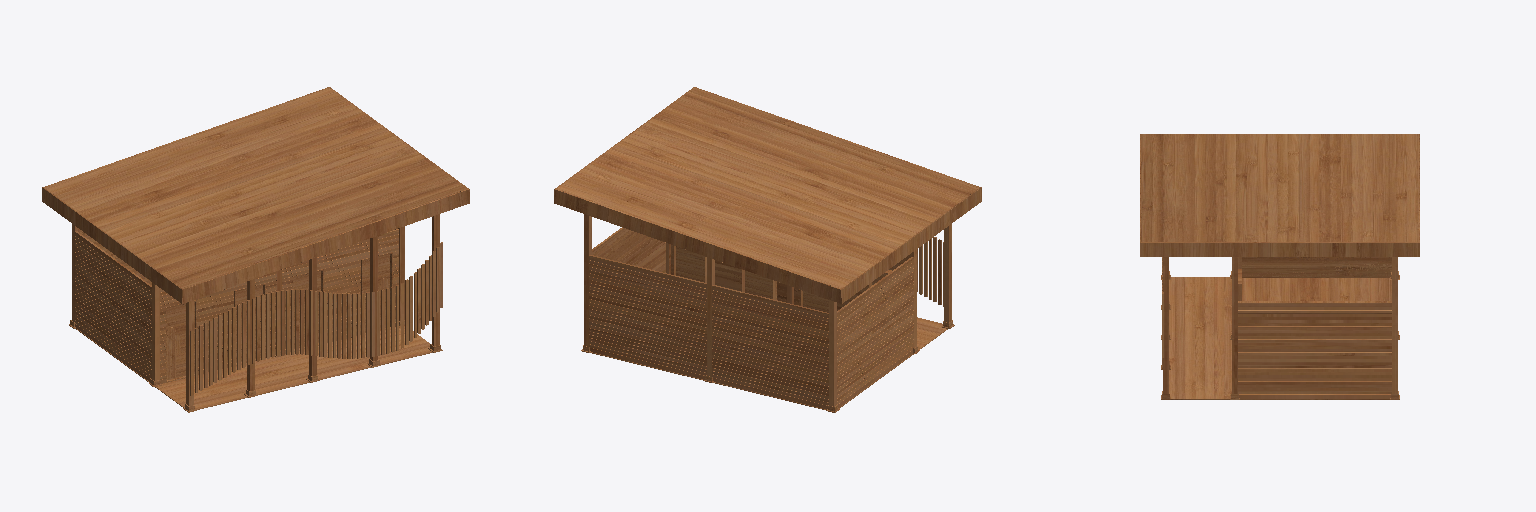
3 renders of one model, left to right at view 1: azimuth 30°, elevation 25°; view 2: azimuth 150°, elevation 25°; view 3: azimuth 270°, elevation 25°, orthographic.
Visible parts, largest first — view 1: banio; view 2: banio; view 3: banio.
Part boxes in pixels (left/top/right/bottom): banio: left=42, top=87, right=469, bottom=412; banio: left=554, top=87, right=981, bottom=412; banio: left=1140, top=134, right=1419, bottom=399.
Size of the model in its own units: 837304 by 462623 by 707292.
Materials: 1 (1 with a texture image).